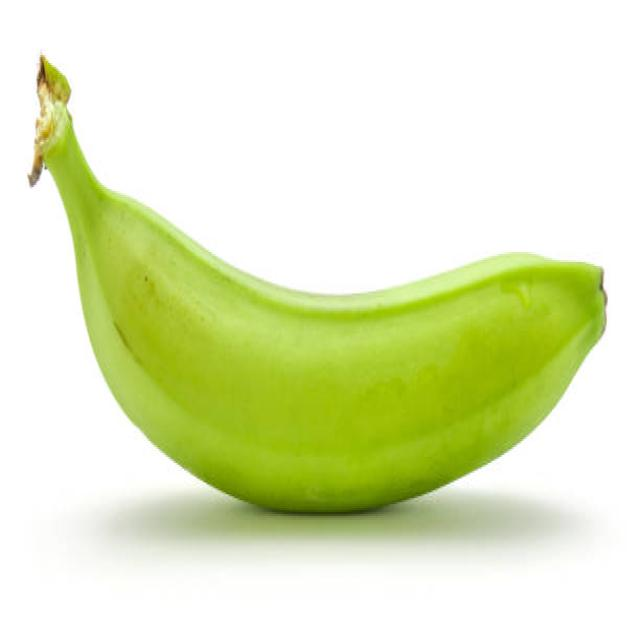banana: (29, 53, 608, 516)
